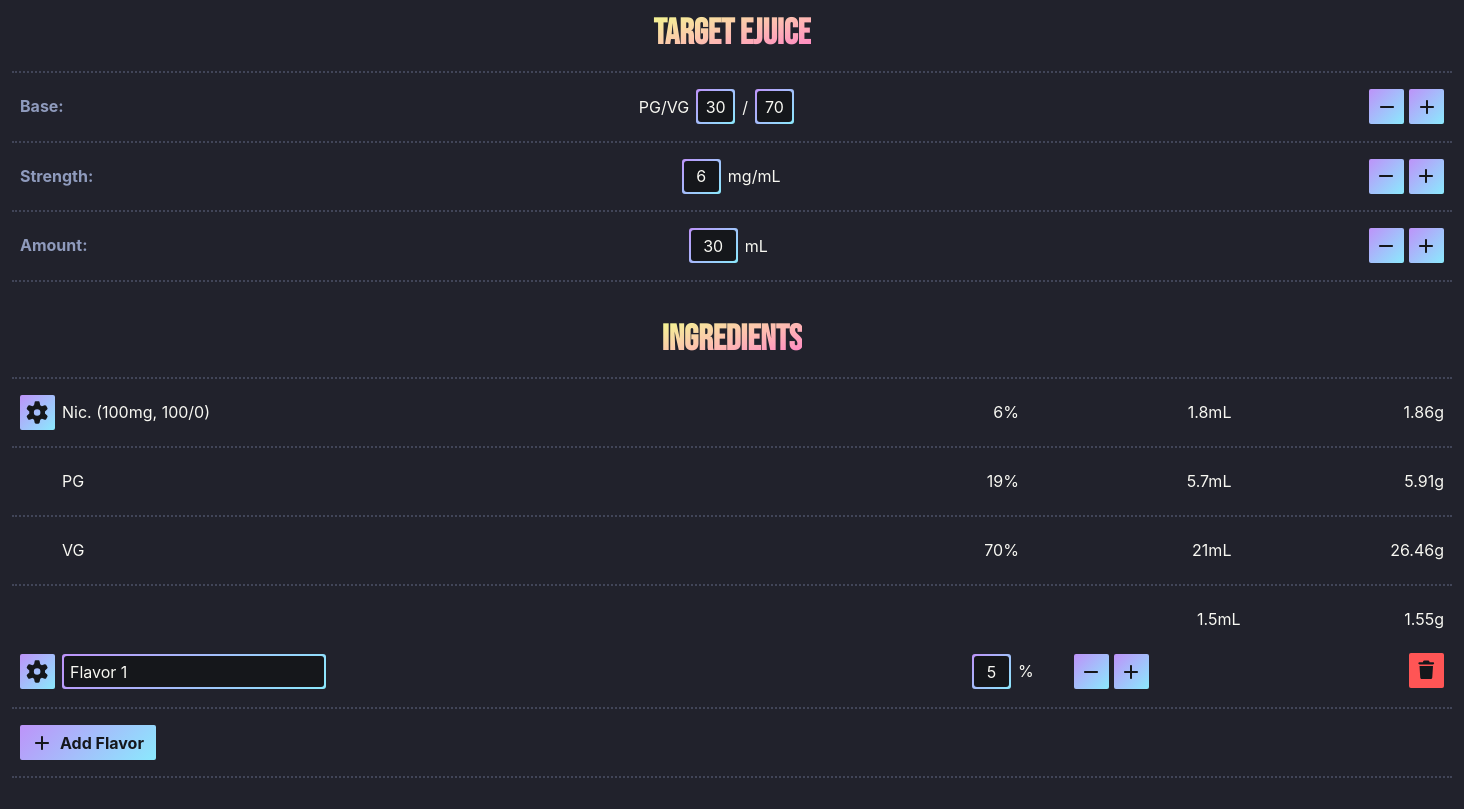
Test case: Flavor config › button click renders the flavor config
The image size is (1464, 809).
Click the button with test id "flavor1ConfigBtn".
click(38, 672)  # box left=20, top=654, right=55, bottom=689
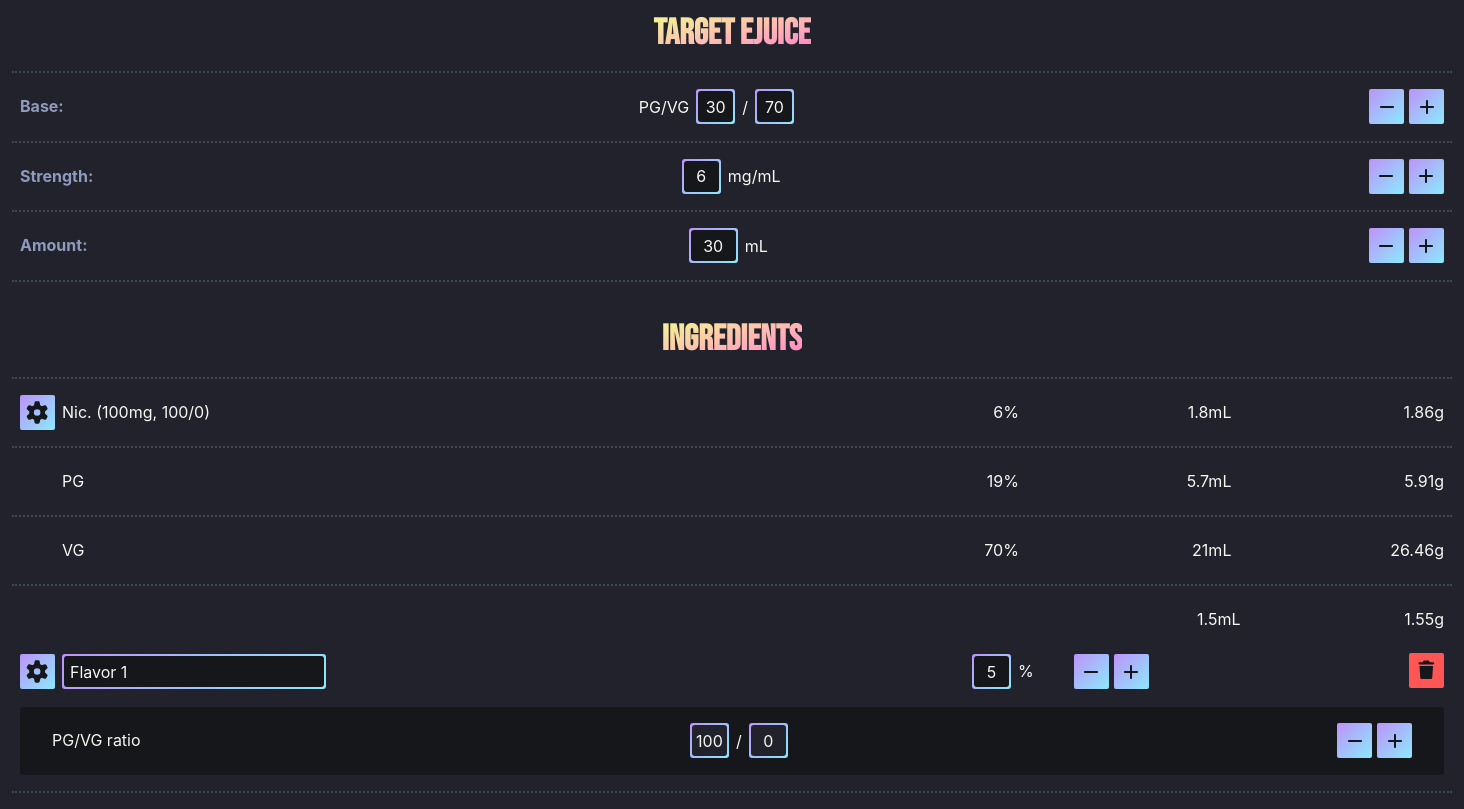
Expected: the number field with test id "flavor1ConfigPgInput" is shown, left=692, top=725, right=727, bottom=756
Expected: the number field with test id "flavor1ConfigVgInput" is shown, left=751, top=725, right=786, bottom=756
